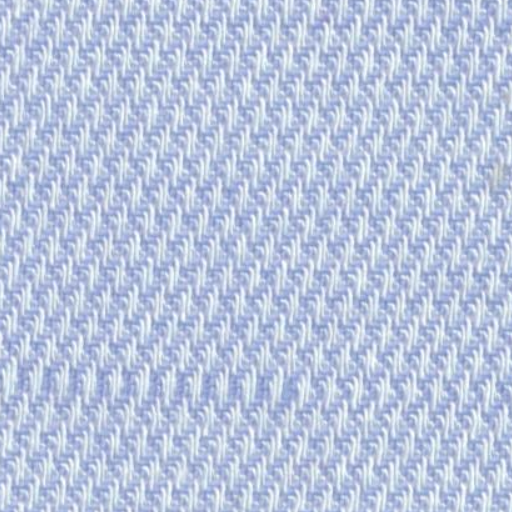TuoSha: (8, 342, 488, 446)
